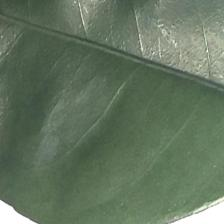healthy: (1, 4, 224, 224)
